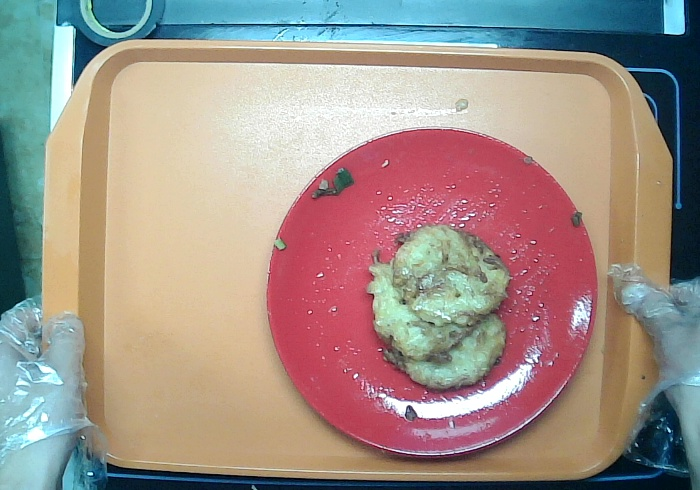HZYJPL-Hong_Se_Yuan_Pan: (265, 123, 601, 460)
